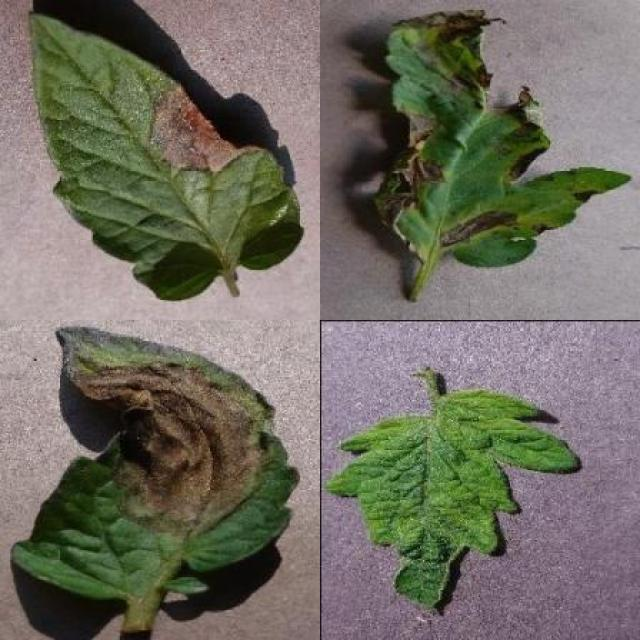Early Blight: (379, 11, 635, 269)
Late Blight: (27, 10, 304, 304), (12, 322, 298, 598)
Mosaic Virus: (322, 387, 582, 613)
